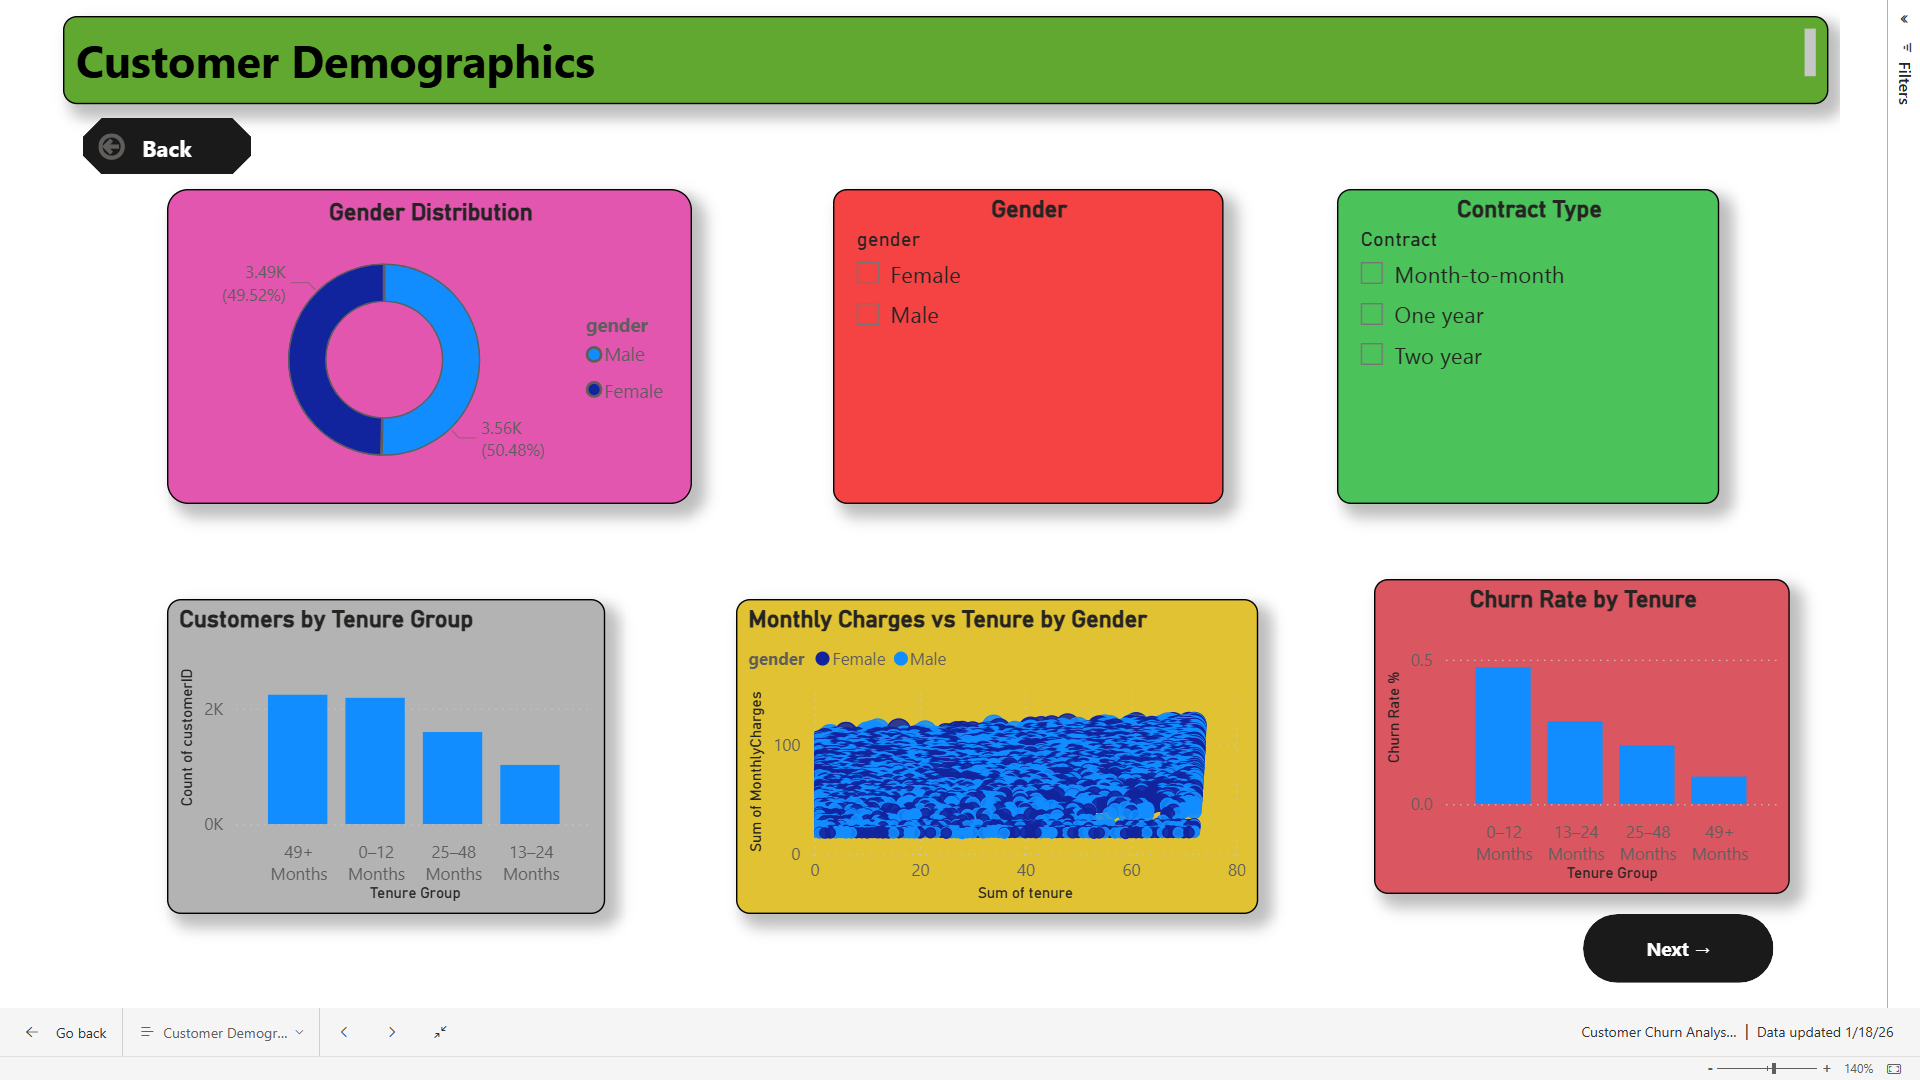

The dashboard page shown, as its layout file describes it:
{"tool":"powerbi","page":{"name":"Customer Demographics","canvas":[1280,720],"ordinal":1},"visuals":[{"type":"textbox","box":[10.8,11.6,1260.9,62.7],"z":0},{"type":"donutChart","title":"Gender Distribution","fields":{"Category":["Customer.gender"],"Y":["CountNonNull(Customer.customerID)"]},"box":[85.1,135.2,375.2,224.8],"z":1000},{"type":"clusteredColumnChart","title":"Customers by Tenure Group","fields":{"Category":["Customer.Tenure Group"],"Y":["CountNonNull(Customer.customerID)"]},"box":[85.1,428.1,313.4,224.8],"z":2000},{"type":"clusteredColumnChart","title":"Churn Rate by Tenure","fields":{"Category":["Customer.Tenure Group"],"Y":["Customer.Churn Rate %"]},"box":[947.5,413.7,297.3,224.8],"z":3000},{"type":"scatterChart","title":"Monthly Charges vs Tenure by Gender","fields":{"X":["Sum(Customer.tenure)"],"Y":["Sum(Customer.MonthlyCharges)"],"Series":["Customer.gender"],"Category":["Customer.customerID"],"Size":["Sum(Customer.MonthlyCharges)"]},"box":[491.6,428.1,373.4,224.8],"z":4000},{"type":"slicer","title":"Gender","fields":{"Values":["Customer.gender"]},"box":[560.6,135.2,278.5,224.8],"z":5000},{"type":"slicer","title":"Contract Type","fields":{"Values":["Customer.Contract"]},"box":[920.6,135.2,273.1,224.8],"z":6000},{"type":"actionButton","box":[25.1,84.2,120,40.3],"z":7000},{"type":"actionButton","box":[1096.1,652.8,136.1,49.2],"z":8000}]}

Visuals, with their boxes on the page's 1280x720 design canvas (x1, y1, x2, y2). These are canvas units, not pixel positions in the 1920x1080 screenshot, which may show the page scaled, cropped or inside an application window:
textbox: x1=11, y1=12, x2=1272, y2=74
"Gender Distribution" donutChart: x1=85, y1=135, x2=460, y2=360
"Customers by Tenure Group" clusteredColumnChart: x1=85, y1=428, x2=398, y2=653
"Churn Rate by Tenure" clusteredColumnChart: x1=948, y1=414, x2=1245, y2=638
"Monthly Charges vs Tenure by Gender" scatterChart: x1=492, y1=428, x2=865, y2=653
"Gender" slicer: x1=561, y1=135, x2=839, y2=360
"Contract Type" slicer: x1=921, y1=135, x2=1194, y2=360
actionButton: x1=25, y1=84, x2=145, y2=124
actionButton: x1=1096, y1=653, x2=1232, y2=702
